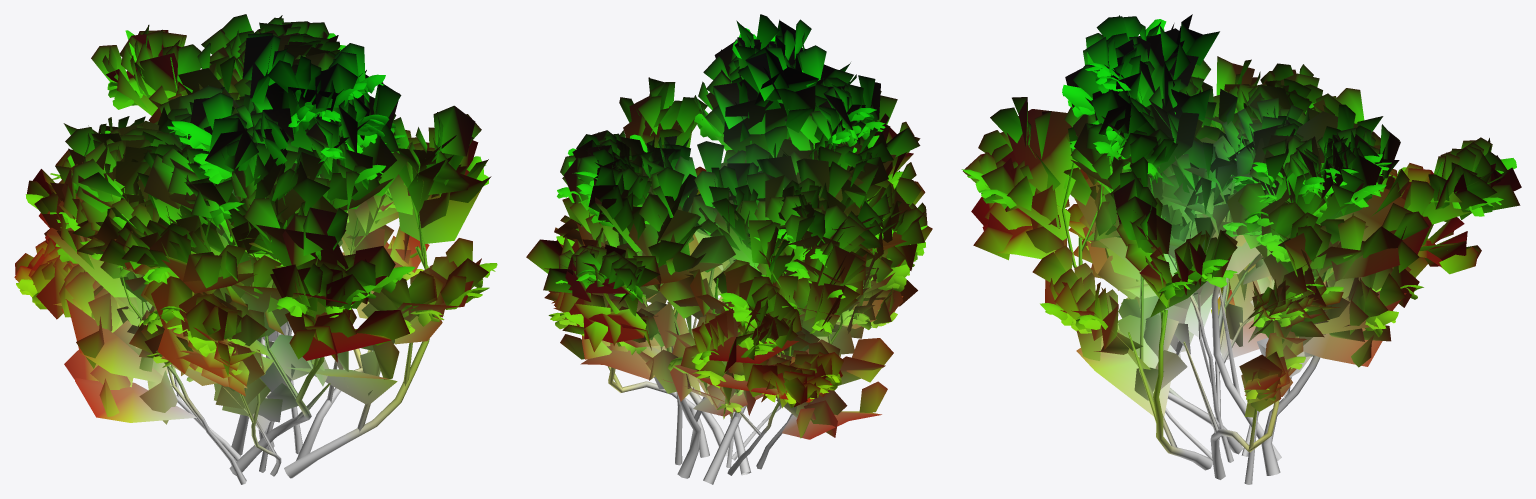
The model's file is arden_forest_lilac_01_white.fbx.
The picture shows the model from 3 angles, left to right: view 1: azimuth 30°, elevation 25°; view 2: azimuth 150°, elevation 25°; view 3: azimuth 270°, elevation 25°; orthographic projection. The views are drawn at different scales.
Visible parts, largest first — view 1: arden_forest_lilac_01_white; view 2: arden_forest_lilac_01_white; view 3: arden_forest_lilac_01_white.
Boxes of the visible parts, x1,y1,x2,y2 form: arden_forest_lilac_01_white: [14, 14, 497, 484]; arden_forest_lilac_01_white: [526, 14, 932, 484]; arden_forest_lilac_01_white: [961, 14, 1521, 484].
Bounding box in the file's own units: 4.79 × 6.35 × 5.48.
